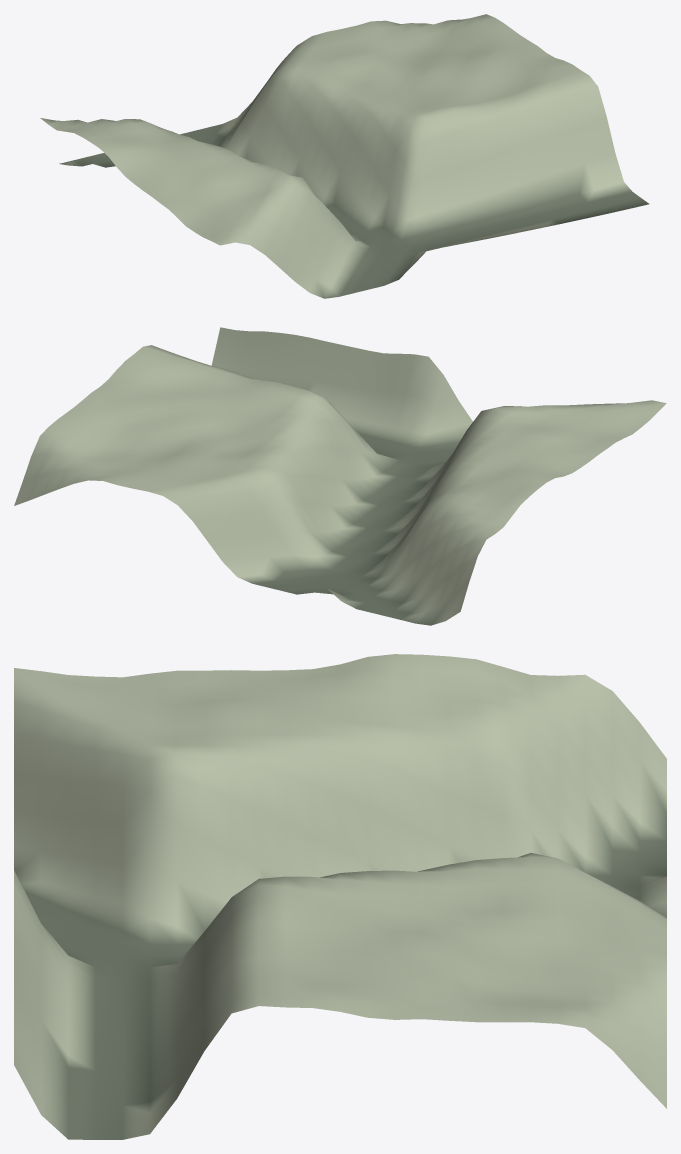
The picture shows the model from 3 angles, top to bottom: view 1: azimuth 30°, elevation 25°; view 2: azimuth 150°, elevation 25°; view 3: azimuth 270°, elevation 25°; orthographic projection. The views are drawn at different scales.
Visible parts, largest first — view 1: world-ground/120-72; view 2: world-ground/120-72; view 3: world-ground/120-72.
Part boxes in pixels (box(x1,y1,x2,y2)): world-ground/120-72: box(40, 14, 649, 298); world-ground/120-72: box(14, 327, 666, 625); world-ground/120-72: box(14, 654, 666, 1139).
Bounding box in the file's own units: 37.5 × 7.14 × 30.
